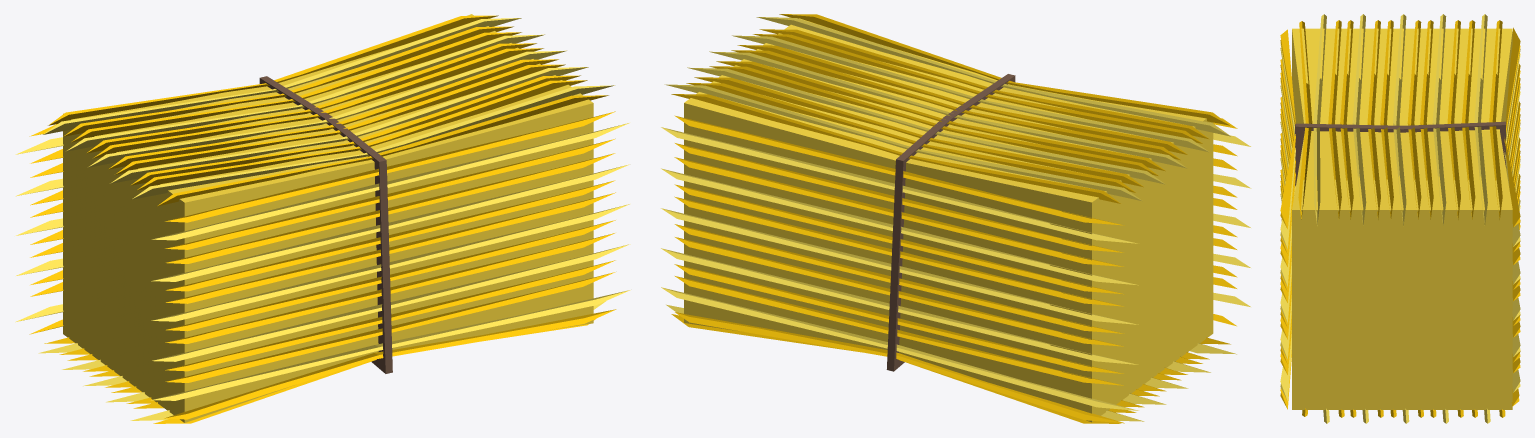
The model's file is haybale01.obj.
3 views of the same model, side by side, from view 1: azimuth 30°, elevation 25°; view 2: azimuth 150°, elevation 25°; view 3: azimuth 270°, elevation 25° (orthographic). The views are drawn at different scales.
Parts seen in each view (by area): view 1: haybale01; view 2: haybale01; view 3: haybale01.
Boxes of the visible parts, x1,y1,x2,y2 form: haybale01: (15,14,630,423); haybale01: (661,14,1251,423); haybale01: (1280,14,1520,423).
Bounding box in the file's own units: 0.9345 × 0.4225 × 0.4339.
